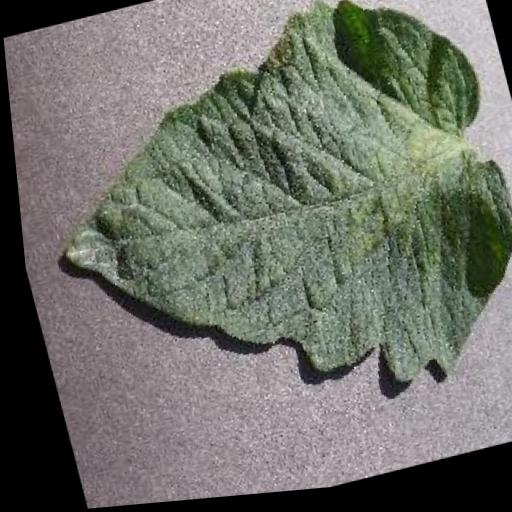Spider Mites: (7, 0, 512, 473)
